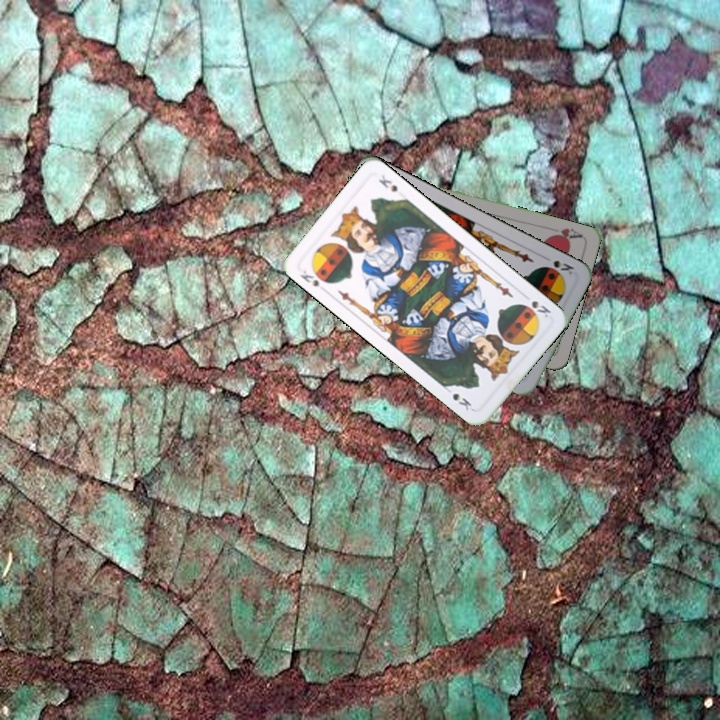HA: (545, 224, 586, 244)
SK: (519, 290, 554, 320), (542, 256, 577, 278), (296, 266, 321, 290)
